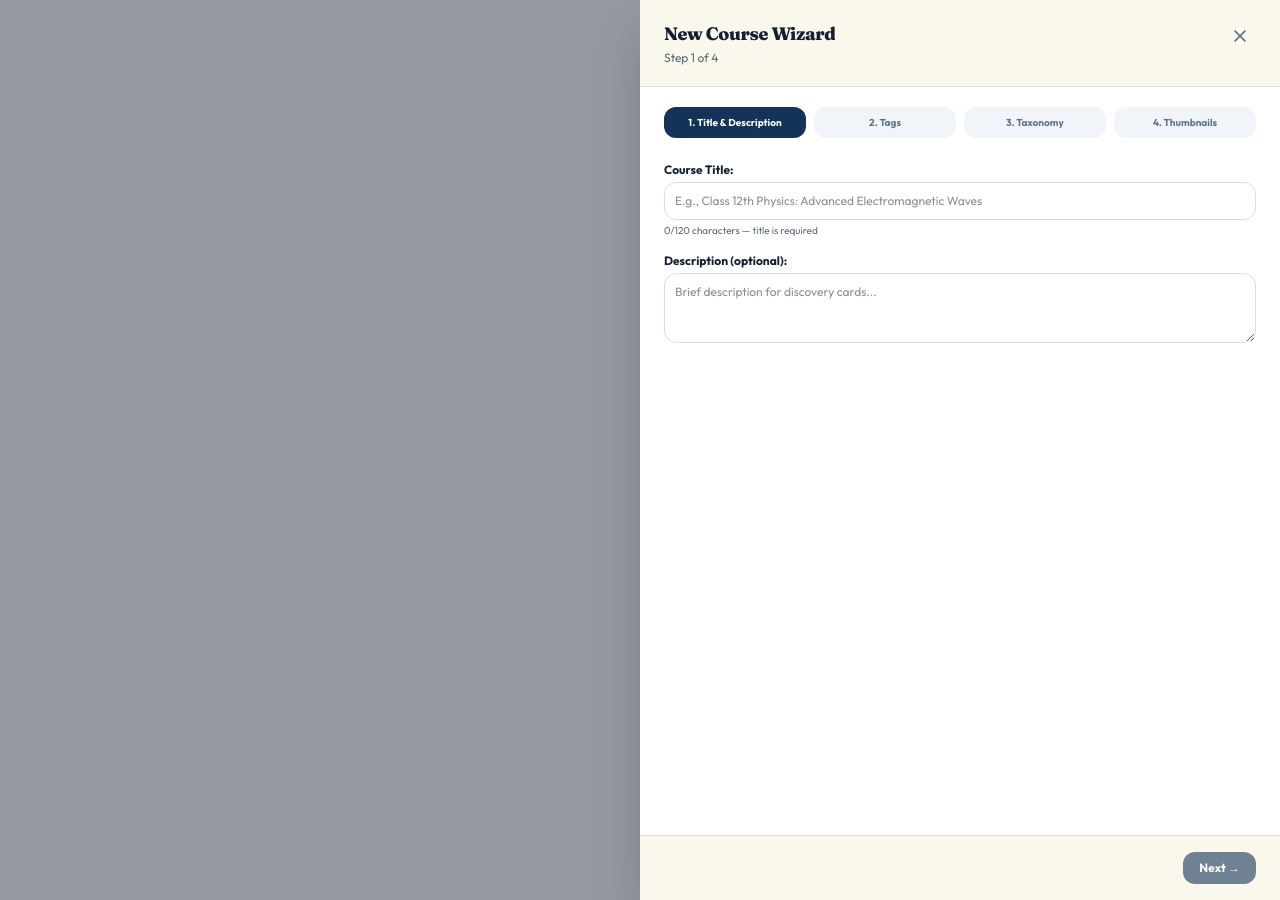
Test: CourseWizard › advances through Step 2 (Tags) and shows the locked chip for the pre-attached inactive tag
Type "Intro to Physics" into the field labelled "Course Title:".
click(960, 201); type("Intro to Physics")  # box left=664, top=182, right=1256, bottom=220
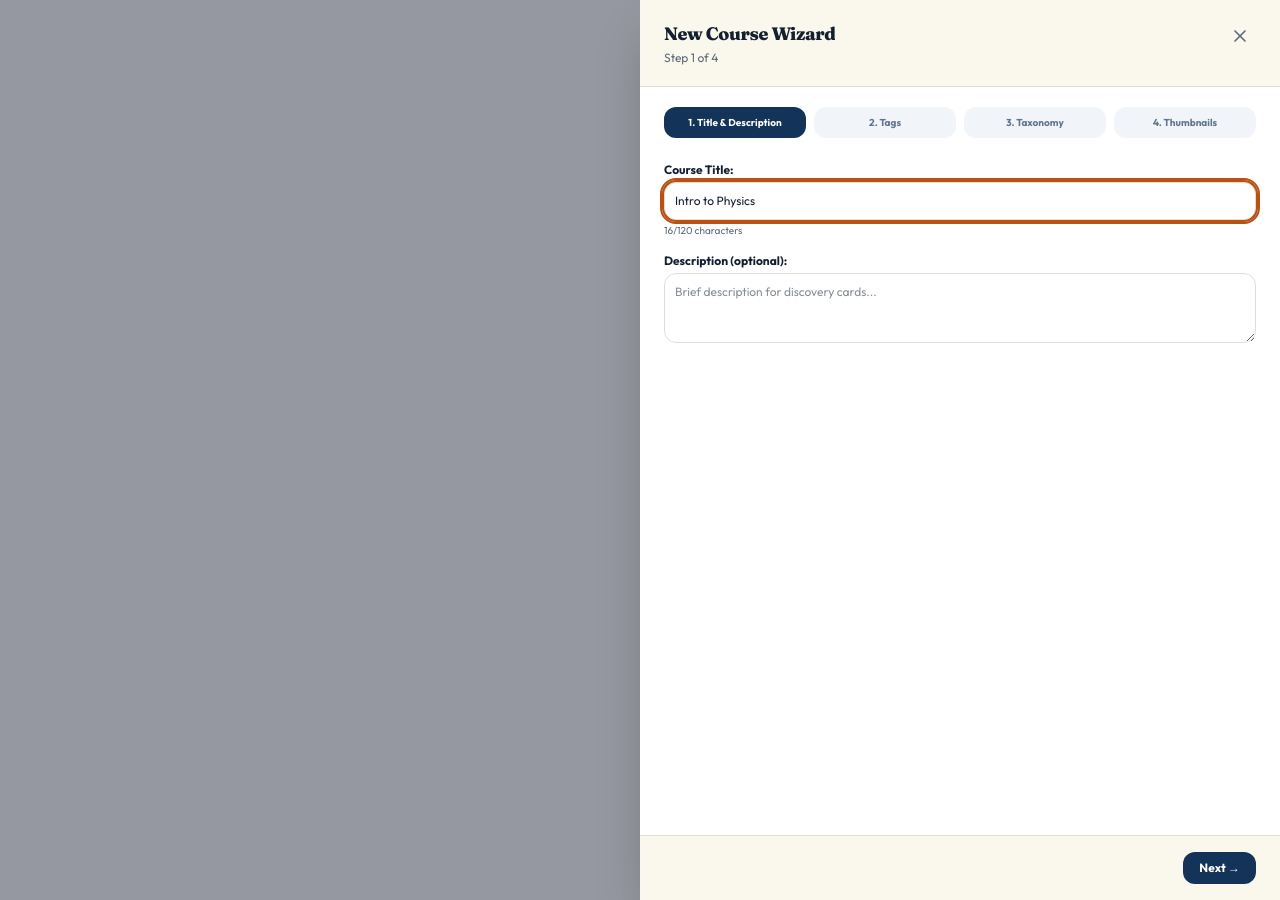
Click the button "Next →".
click(1220, 868)  # box left=1183, top=852, right=1256, bottom=884
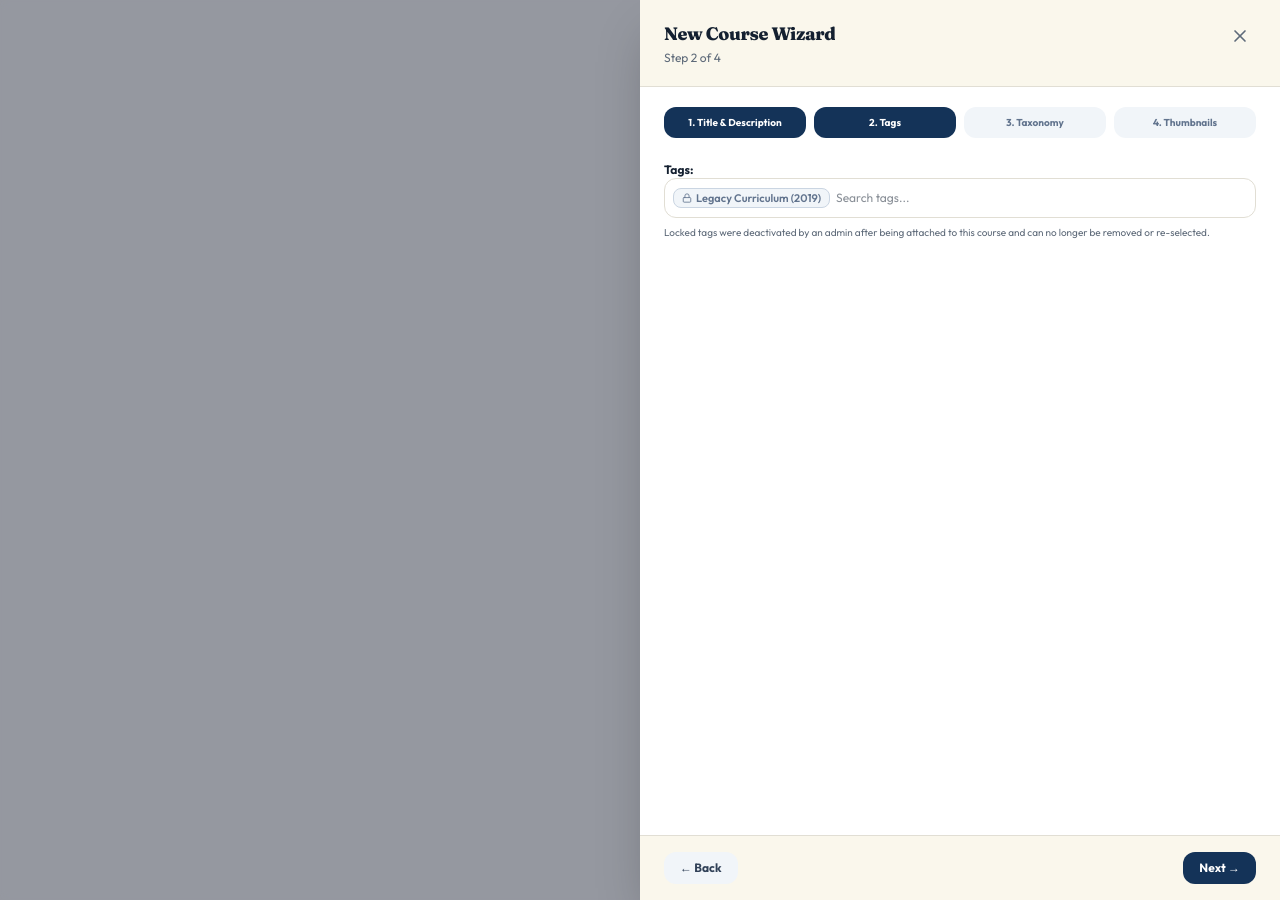
Expected: the text "Step 2 of 4" is shown, left=664, top=50, right=721, bottom=65
Expected: the text "Legacy Curriculum (2019)" is shown, left=673, top=188, right=830, bottom=208
